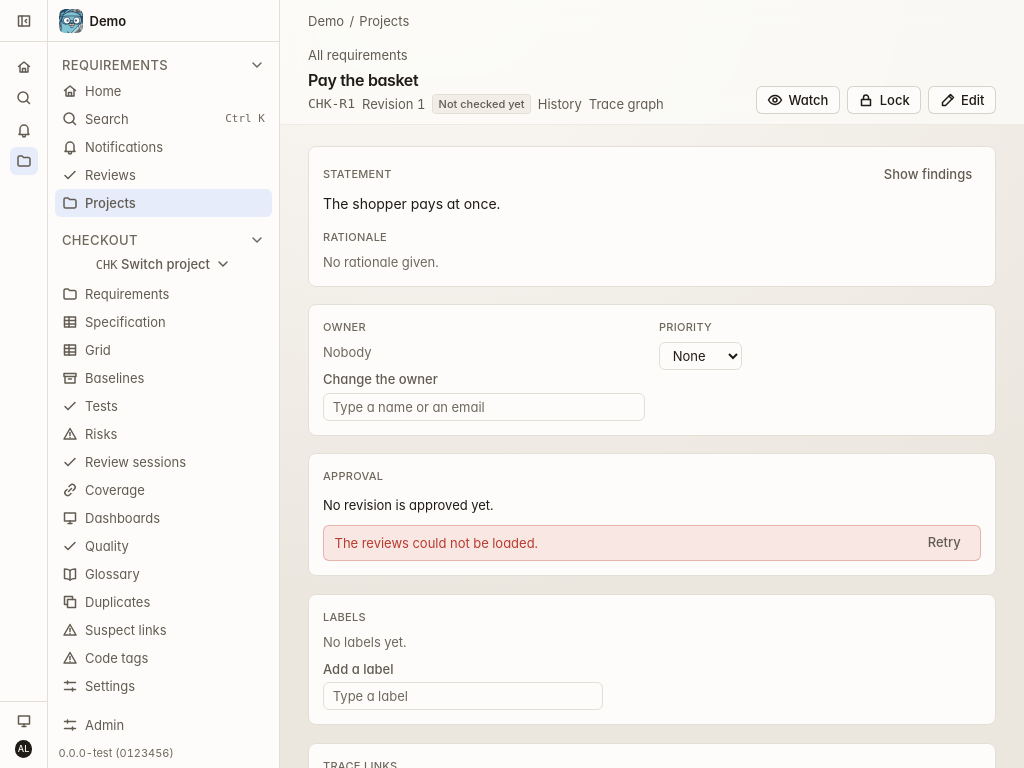
Test: a requirement's page › shows what it says, and saves a change over the revision it was opened at
expect the text "The shopper pays at once." is shown: met, box [323,195,500,212]
Click the button "Edit". click: (962,100)
box: [928,86,996,114]
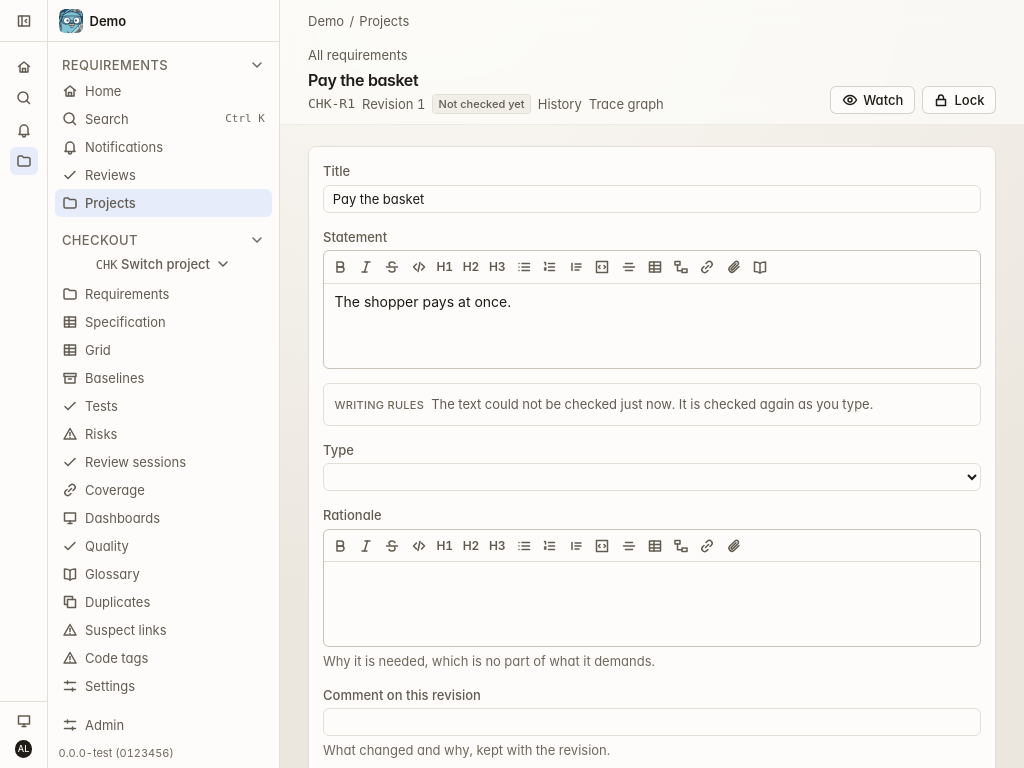
Replace the text in the field labelled "Title" with "Pay the whole basket". click: (652,199)
box: [323,185,981,213]
(page scrolled)
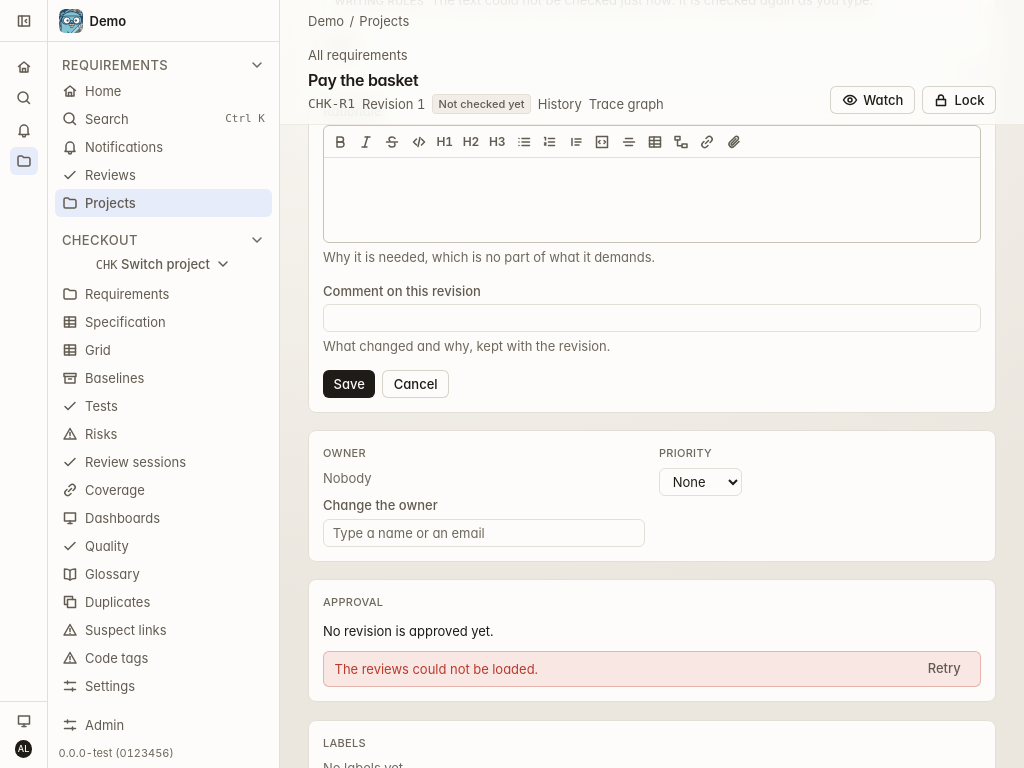
Click the button "Save". click: (349,384)
box: [323,370,375,398]
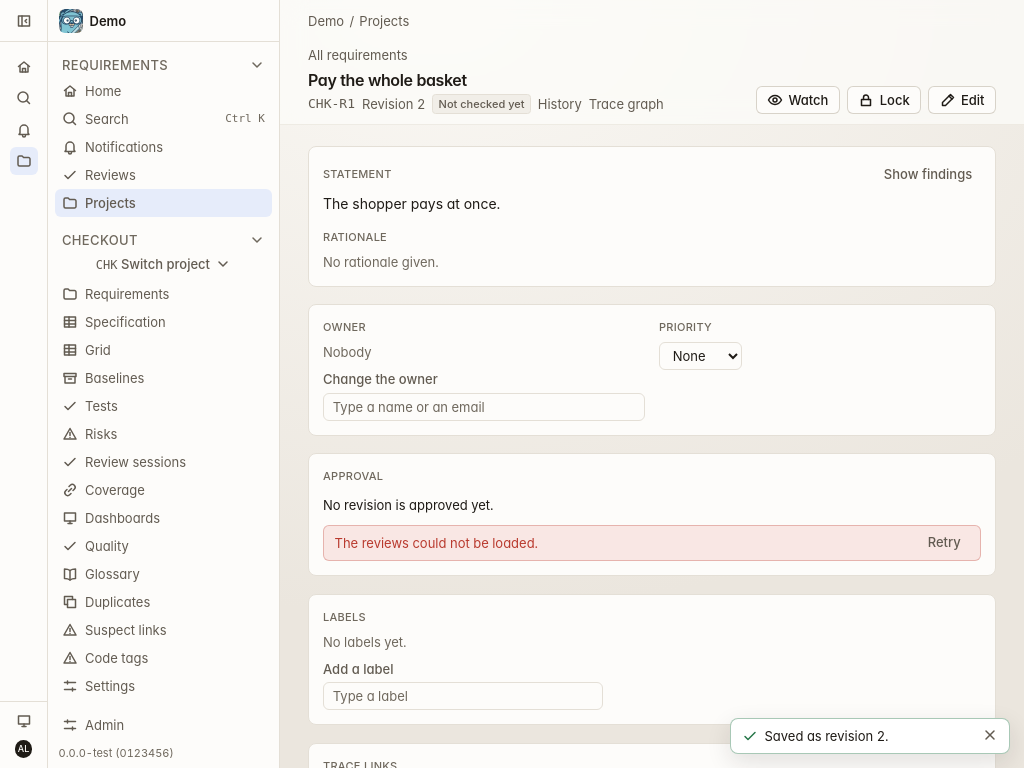
expect the text "Saved as revision 2." is shown: met, box [764,728,889,744]
